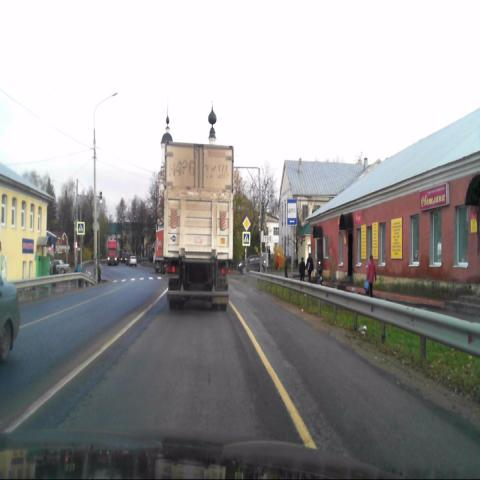7_12: (287, 199, 297, 225)
